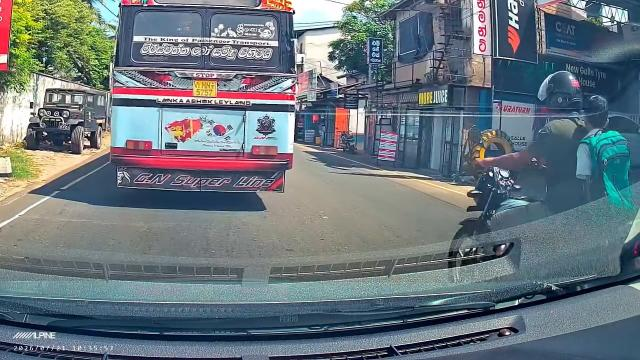no helmet: (582, 94, 614, 133)
